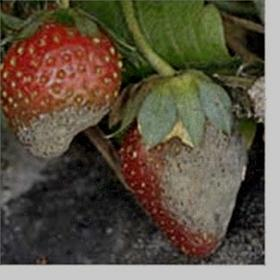Gray Mold: (122, 115, 249, 258), (6, 91, 118, 161)
